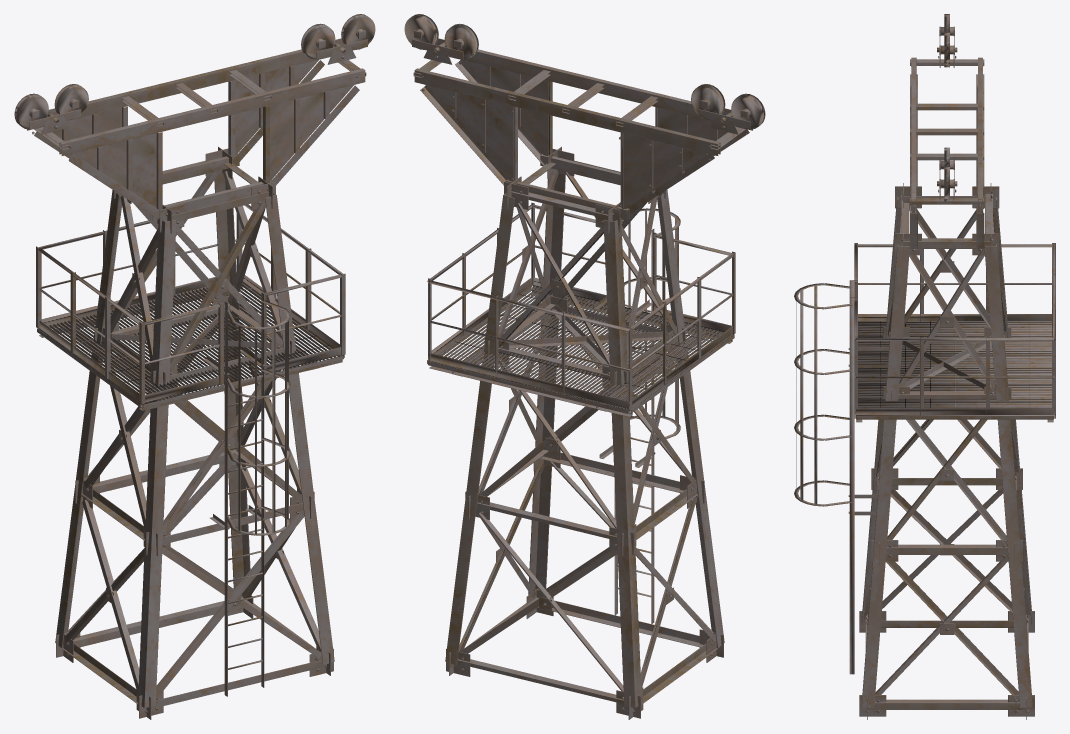
Rendered from CablewayEntryTower.fbx.
The picture shows the model from 3 angles, left to right: view 1: azimuth 30°, elevation 25°; view 2: azimuth 150°, elevation 25°; view 3: azimuth 270°, elevation 25°; orthographic projection. The views are drawn at different scales.
Parts seen in each view (by area): view 1: CablewayEntryTower; view 2: CablewayEntryTower; view 3: CablewayEntryTower.
Boxes of the visible parts, left/top/right/bottom form: CablewayEntryTower: left=14, top=14, right=375, bottom=719; CablewayEntryTower: left=404, top=14, right=765, bottom=719; CablewayEntryTower: left=794, top=14, right=1055, bottom=719.
Bounding box in the file's own units: 5 × 8.12 × 3.31.
